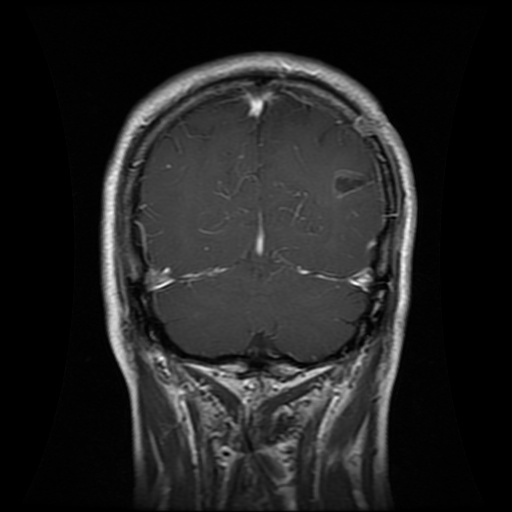glioma: (329, 167, 374, 199)
